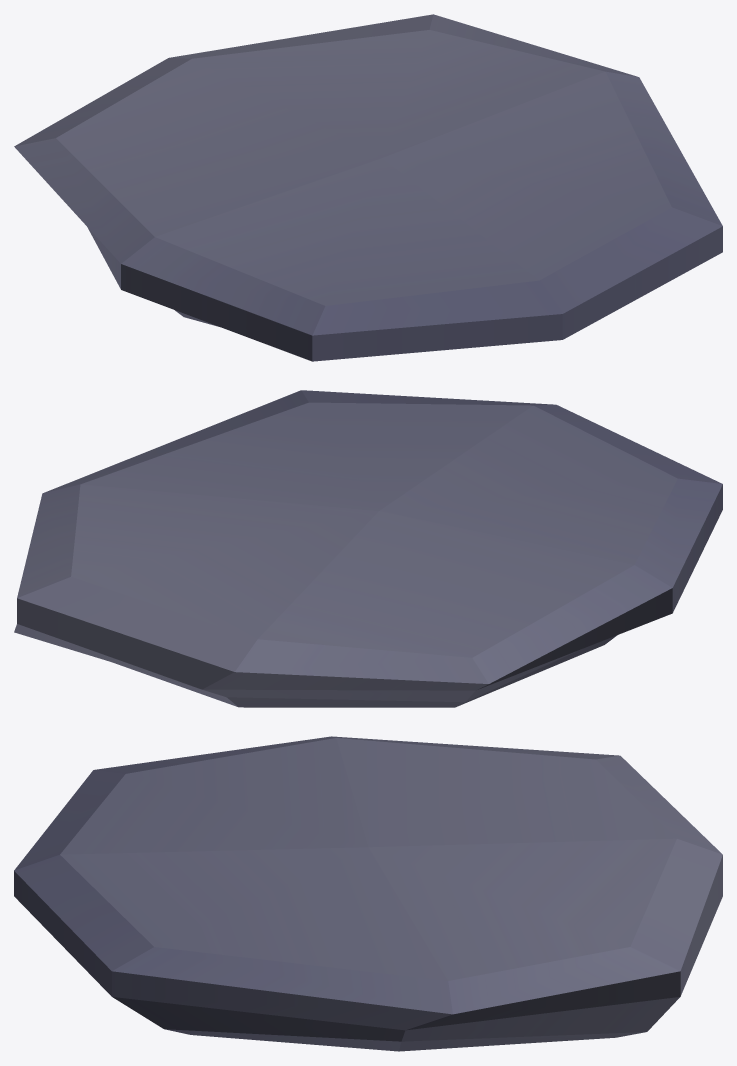
File: Stone_02.fbx
3 renders of one model, top to bottom at view 1: azimuth 30°, elevation 25°; view 2: azimuth 150°, elevation 25°; view 3: azimuth 270°, elevation 25°, orthographic.
Parts seen in each view (by area): view 1: Stone_02; view 2: Stone_02; view 3: Stone_02.
Boxes of the visible parts, box(x1,y1,x2,y2) form: Stone_02: box(14, 14, 722, 361); Stone_02: box(14, 390, 722, 707); Stone_02: box(14, 736, 722, 1051).
Size of the model in its own units: 207 by 35.03 by 223.
Materials: 1 (1 with a texture image).
